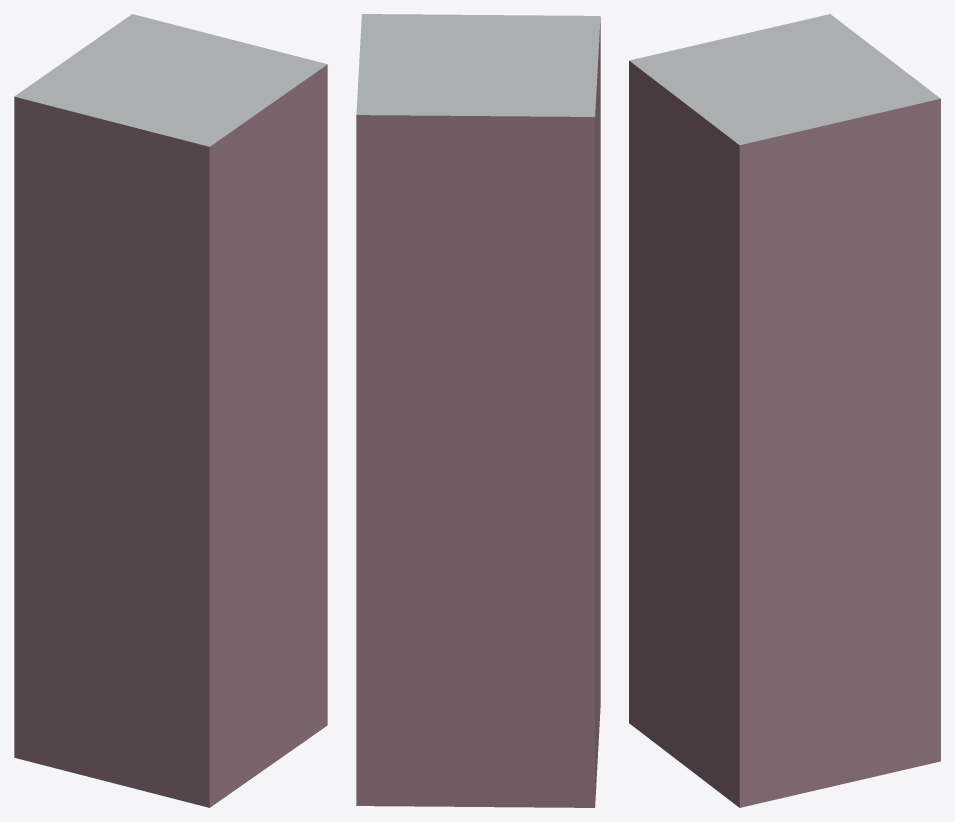
The model's file is nyc-1071414-0.glb.
3 renders of one model, left to right at view 1: azimuth 30°, elevation 25°; view 2: azimuth 150°, elevation 25°; view 3: azimuth 270°, elevation 25°, orthographic. The views are drawn at different scales.
Parts seen in each view (by area): view 1: nyc-1071414-0; view 2: nyc-1071414-0; view 3: nyc-1071414-0.
Boxes of the visible parts, x1=… form: nyc-1071414-0: x1=14, y1=14, x2=327, y2=807; nyc-1071414-0: x1=356, y1=14, x2=600, y2=807; nyc-1071414-0: x1=629, y1=14, x2=940, y2=807.
Bounding box in the file's own units: 73.81 × 174 × 74.09.
